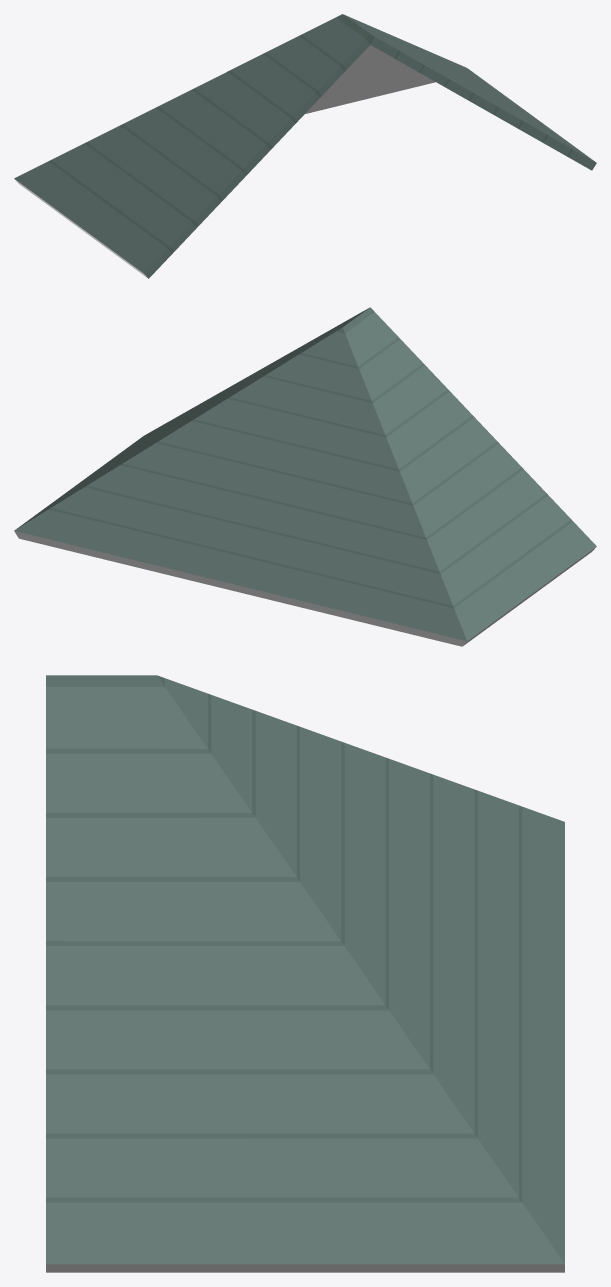
File: Roof1_C6_02.fbx
3 views of the same model, one above another, from view 1: azimuth 30°, elevation 25°; view 2: azimuth 150°, elevation 25°; view 3: azimuth 270°, elevation 25° (orthographic). The views are drawn at different scales.
Parts seen in each view (by area): view 1: Roof1_C6_02; view 2: Roof1_C6_02; view 3: Roof1_C6_02.
Part boxes in pixels (x1,y1,x2,y2): Roof1_C6_02: (14, 14, 596, 278); Roof1_C6_02: (14, 307, 596, 646); Roof1_C6_02: (46, 675, 564, 1272).
Size of the model in its own units: 565 by 227 by 280.
